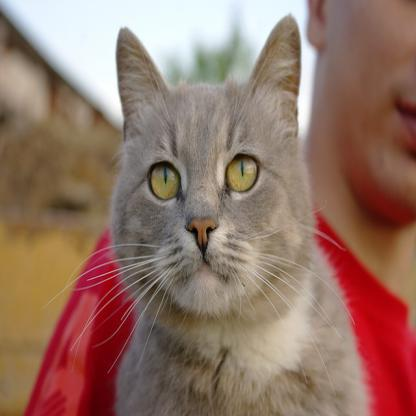cat: (110, 14, 372, 415)
